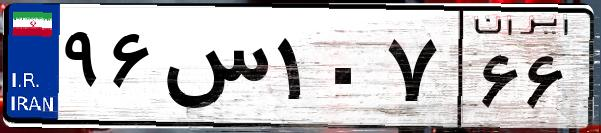0: (330, 28, 385, 110)
1: (270, 28, 330, 110)
6: (475, 38, 525, 113), (525, 38, 570, 115), (110, 28, 158, 98)
7: (385, 28, 445, 110)
9: (57, 26, 110, 100)
س: (158, 20, 270, 120)
